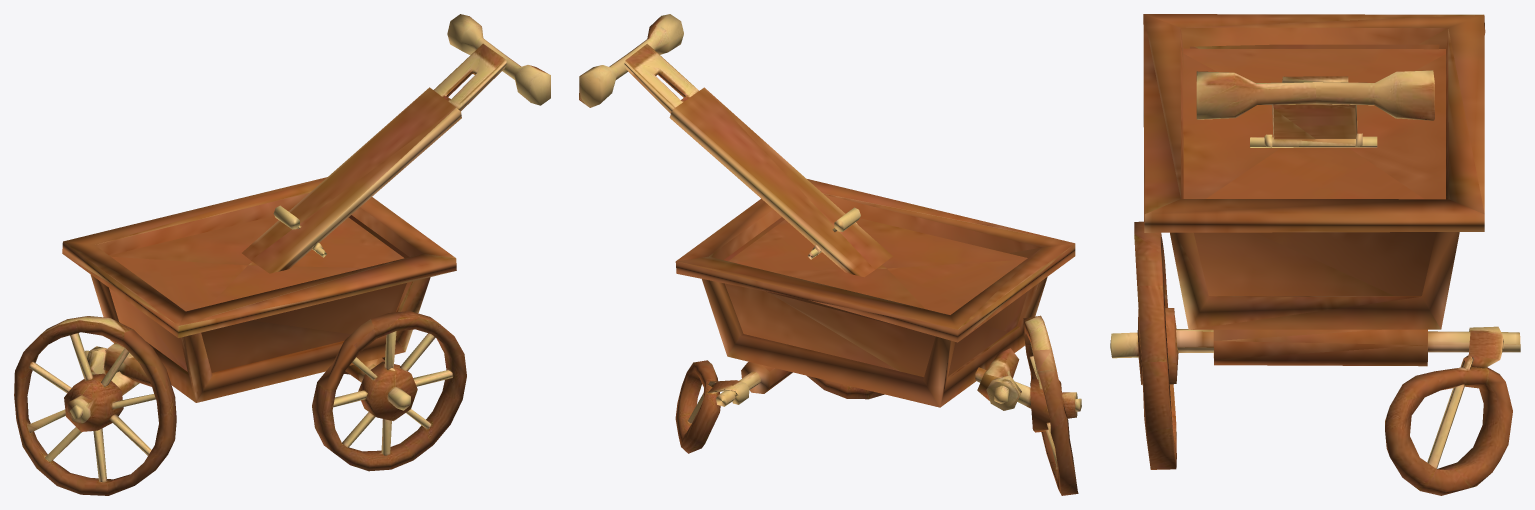
The model's file is seed-drill.glb.
3 renders of one model, left to right at view 1: azimuth 30°, elevation 25°; view 2: azimuth 150°, elevation 25°; view 3: azimuth 270°, elevation 25°, orthographic. The views are drawn at different scales.
Parts seen in each view (by area): view 1: seed-drill; view 2: seed-drill; view 3: seed-drill.
Part boxes in pixels (box(x1,y1,x2,y2)): seed-drill: box(14, 14, 550, 495); seed-drill: box(579, 14, 1081, 495); seed-drill: box(1110, 14, 1520, 495).
Size of the model in its own units: 1.2 by 0.8438 by 0.6188.
Materials: 1 (1 with a texture image).
